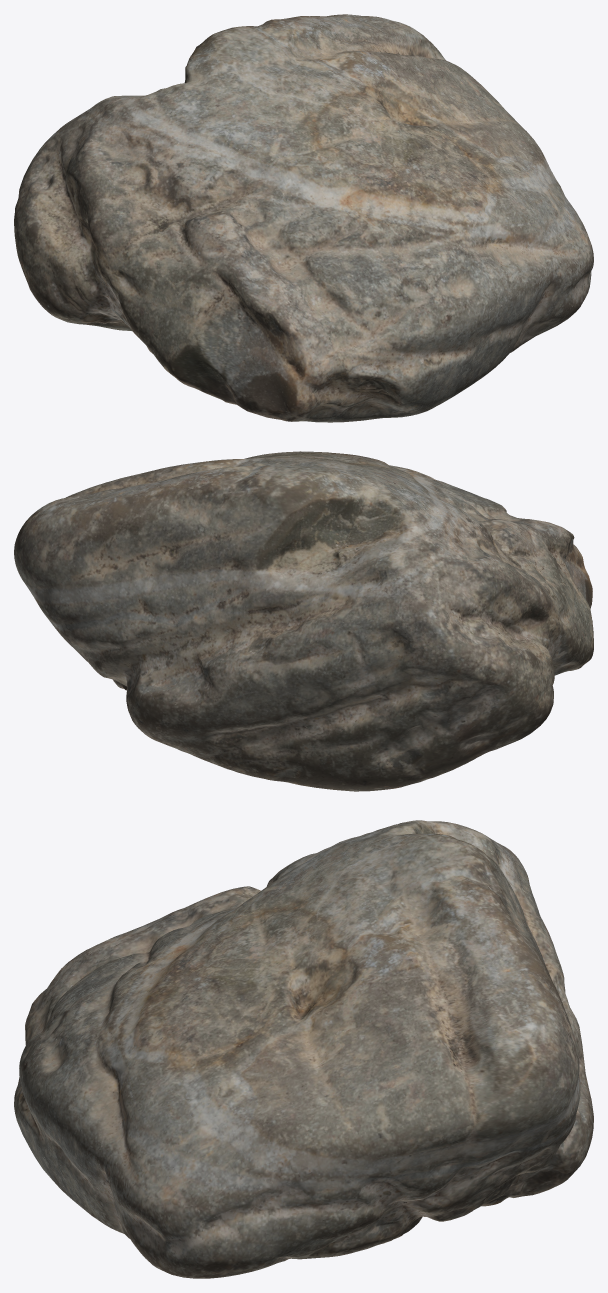
Rendered from stone.glb.
3 views of the same model, one above another, from view 1: azimuth 30°, elevation 25°; view 2: azimuth 150°, elevation 25°; view 3: azimuth 270°, elevation 25° (orthographic). The views are drawn at different scales.
Parts seen in each view (by area): view 1: Object_2; view 2: Object_2; view 3: Object_2.
Part boxes in pixels (x1,y1,x2,y2): Object_2: [14, 14, 593, 422]; Object_2: [14, 451, 593, 791]; Object_2: [14, 820, 593, 1278].
Bounding box in the file's own units: 0.4163 × 0.229 × 0.3625.
Materials: 1 (1 with a texture image).
